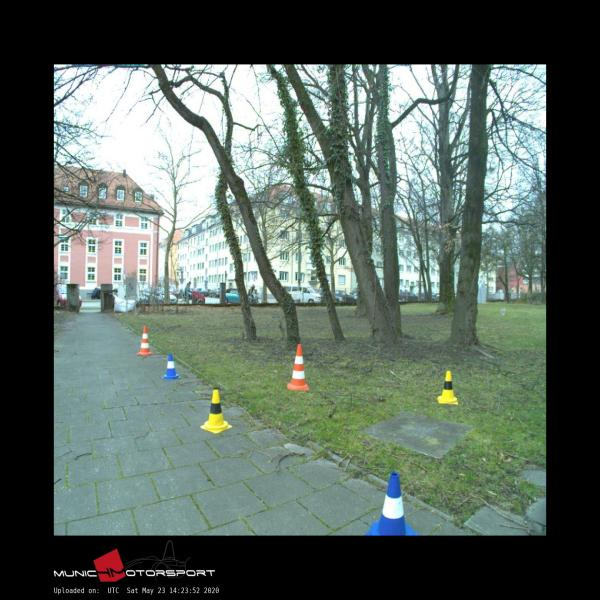blue_cone: (364, 472, 419, 536), (162, 353, 180, 380)
large_orange_cone: (288, 342, 310, 392), (137, 325, 153, 356)
yellow_cone: (200, 389, 233, 434), (438, 370, 458, 405)
